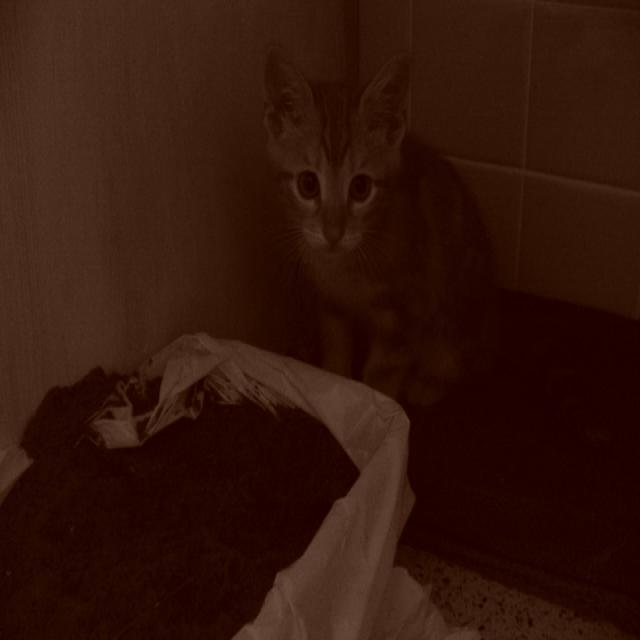Cat: (256, 42, 620, 457)
